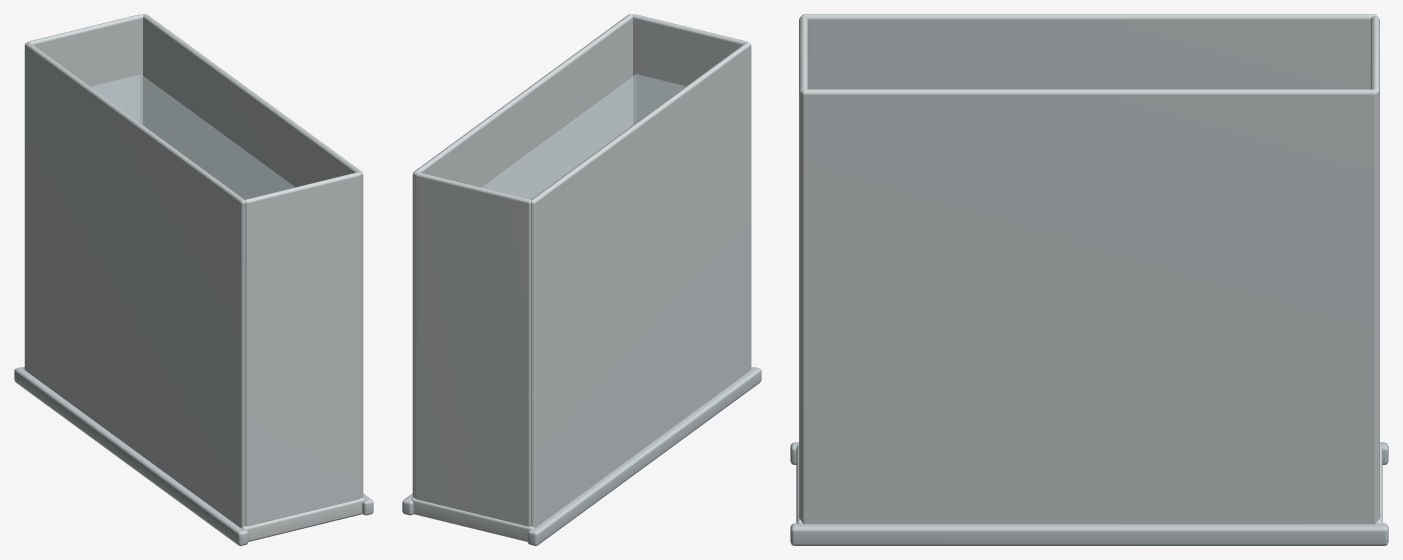
The model's file is water-heat-shield.glb.
The picture shows the model from 3 angles, left to right: view 1: azimuth 30°, elevation 25°; view 2: azimuth 150°, elevation 25°; view 3: azimuth 270°, elevation 25°; orthographic projection. The views are drawn at different scales.
Visible parts, largest first — view 1: Glass tank side, Glass tank end, Glass tank side.001, Water heat filter, Glass tank end.001, Tank edge trim, Glass tank base; view 2: Glass tank side, Glass tank end.001, Glass tank side.001, Water heat filter, Glass tank end, Tank edge trim, Glass tank base; view 3: Glass tank side.001, Glass tank side, Tank edge trim.001, Glass tank end, Glass tank end.001.
Part boxes in pixels (<box>): Glass tank side: <box>24,42,244,527</box>; Glass tank end: <box>245,172,360,526</box>; Glass tank side.001: <box>143,14,363,497</box>; Water heat filter: <box>90,74,294,199</box>; Glass tank end.001: <box>27,14,143,124</box>; Tank edge trim: <box>14,367,248,545</box>; Glass tank base: <box>23,367,364,541</box>; Glass tank side: <box>531,42,751,527</box>; Glass tank end.001: <box>415,172,530,526</box>; Glass tank side.001: <box>412,14,632,497</box>; Water heat filter: <box>481,74,685,199</box>; Glass tank end: <box>632,14,748,124</box>; Tank edge trim: <box>527,367,761,545</box>; Glass tank base: <box>411,367,752,541</box>; Glass tank side.001: <box>801,89,1377,524</box>; Glass tank side: <box>802,14,1376,89</box>; Tank edge trim.001: <box>790,523,1388,545</box>; Glass tank end: <box>799,16,808,519</box>; Glass tank end.001: <box>1370,16,1379,519</box>.
Bounding box in the file's own units: 0.158 × 0.38 × 0.456.
